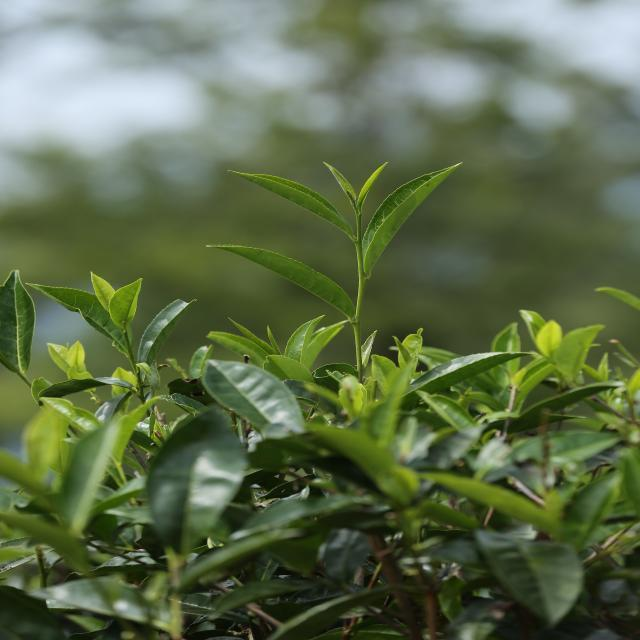Stem: (357, 240, 362, 264), (123, 333, 129, 345)
